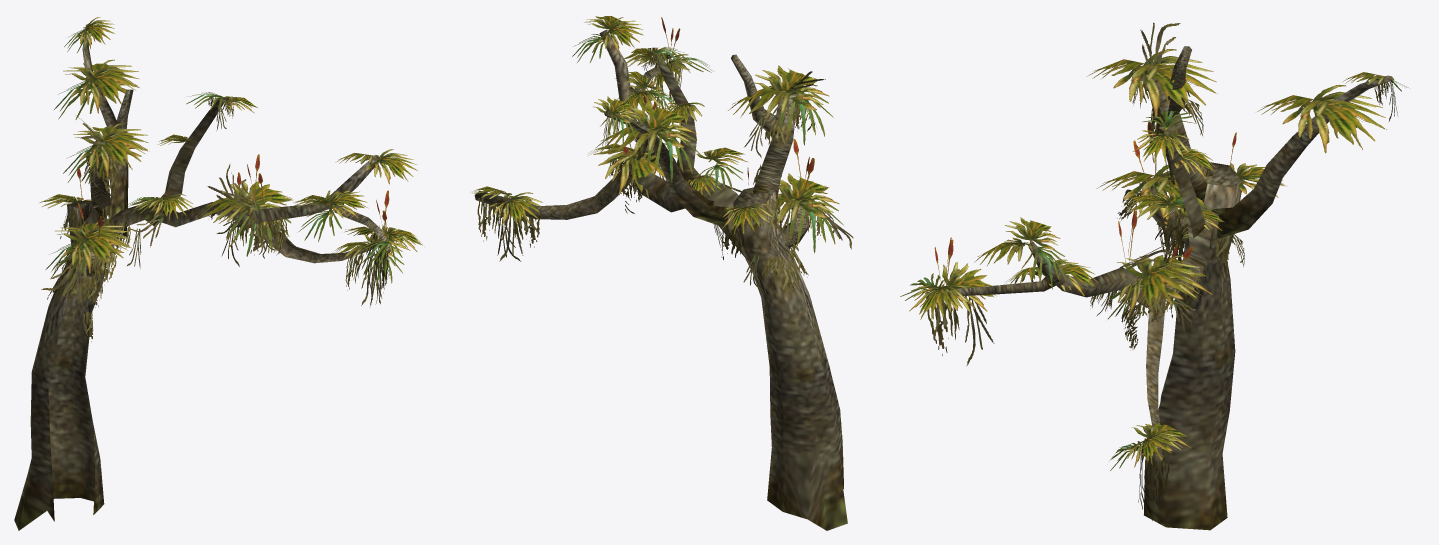
The model's file is S_Tree_Yellow050_2.FBX.
3 renders of one model, left to right at view 1: azimuth 30°, elevation 25°; view 2: azimuth 150°, elevation 25°; view 3: azimuth 270°, elevation 25°, orthographic. The views are drawn at different scales.
Parts seen in each view (by area): view 1: S_Tree_Yellow050_2; view 2: S_Tree_Yellow050_2; view 3: S_Tree_Yellow050_2.
Boxes of the visible parts, box(x1,y1,x2,y2) form: S_Tree_Yellow050_2: box(14, 17, 424, 530); S_Tree_Yellow050_2: box(472, 16, 853, 530); S_Tree_Yellow050_2: box(900, 22, 1408, 530).
Size of the model in its own units: 765 by 736 by 793.
